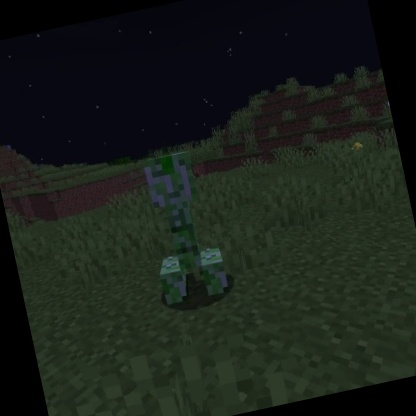creeper: (129, 142, 237, 311)
